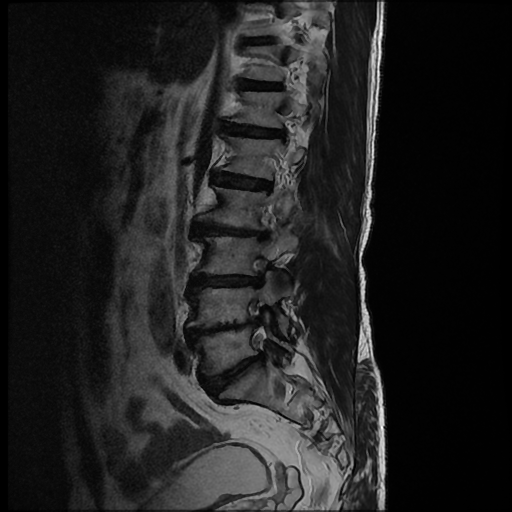RFS1: (234, 252, 281, 293)
